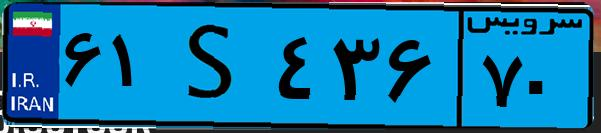0: (525, 38, 570, 115)
1: (110, 28, 158, 98)
3: (330, 28, 385, 110)
4: (270, 28, 330, 110)
6: (385, 28, 445, 110), (57, 26, 110, 100)
7: (475, 38, 525, 113)
S: (158, 12, 270, 120)
